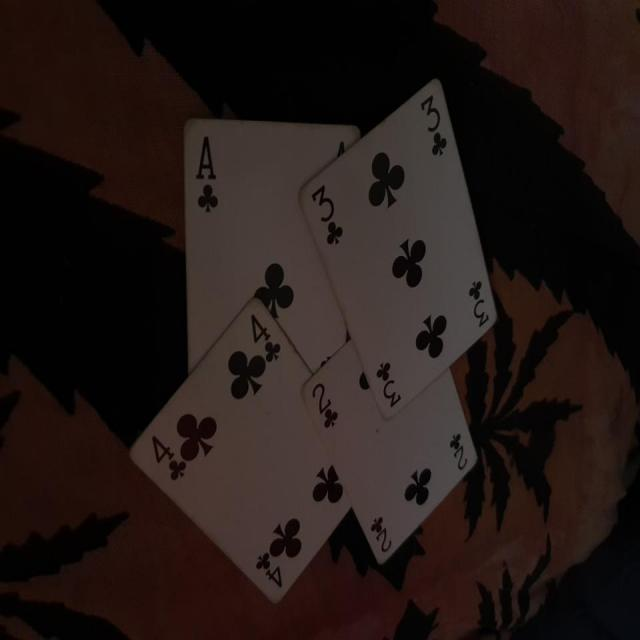2 Trefoils: (299, 338, 478, 564)
3 Trefoils: (299, 77, 496, 418)
4 Trefoils: (127, 297, 353, 603)
A Trefoils: (180, 116, 361, 378)
